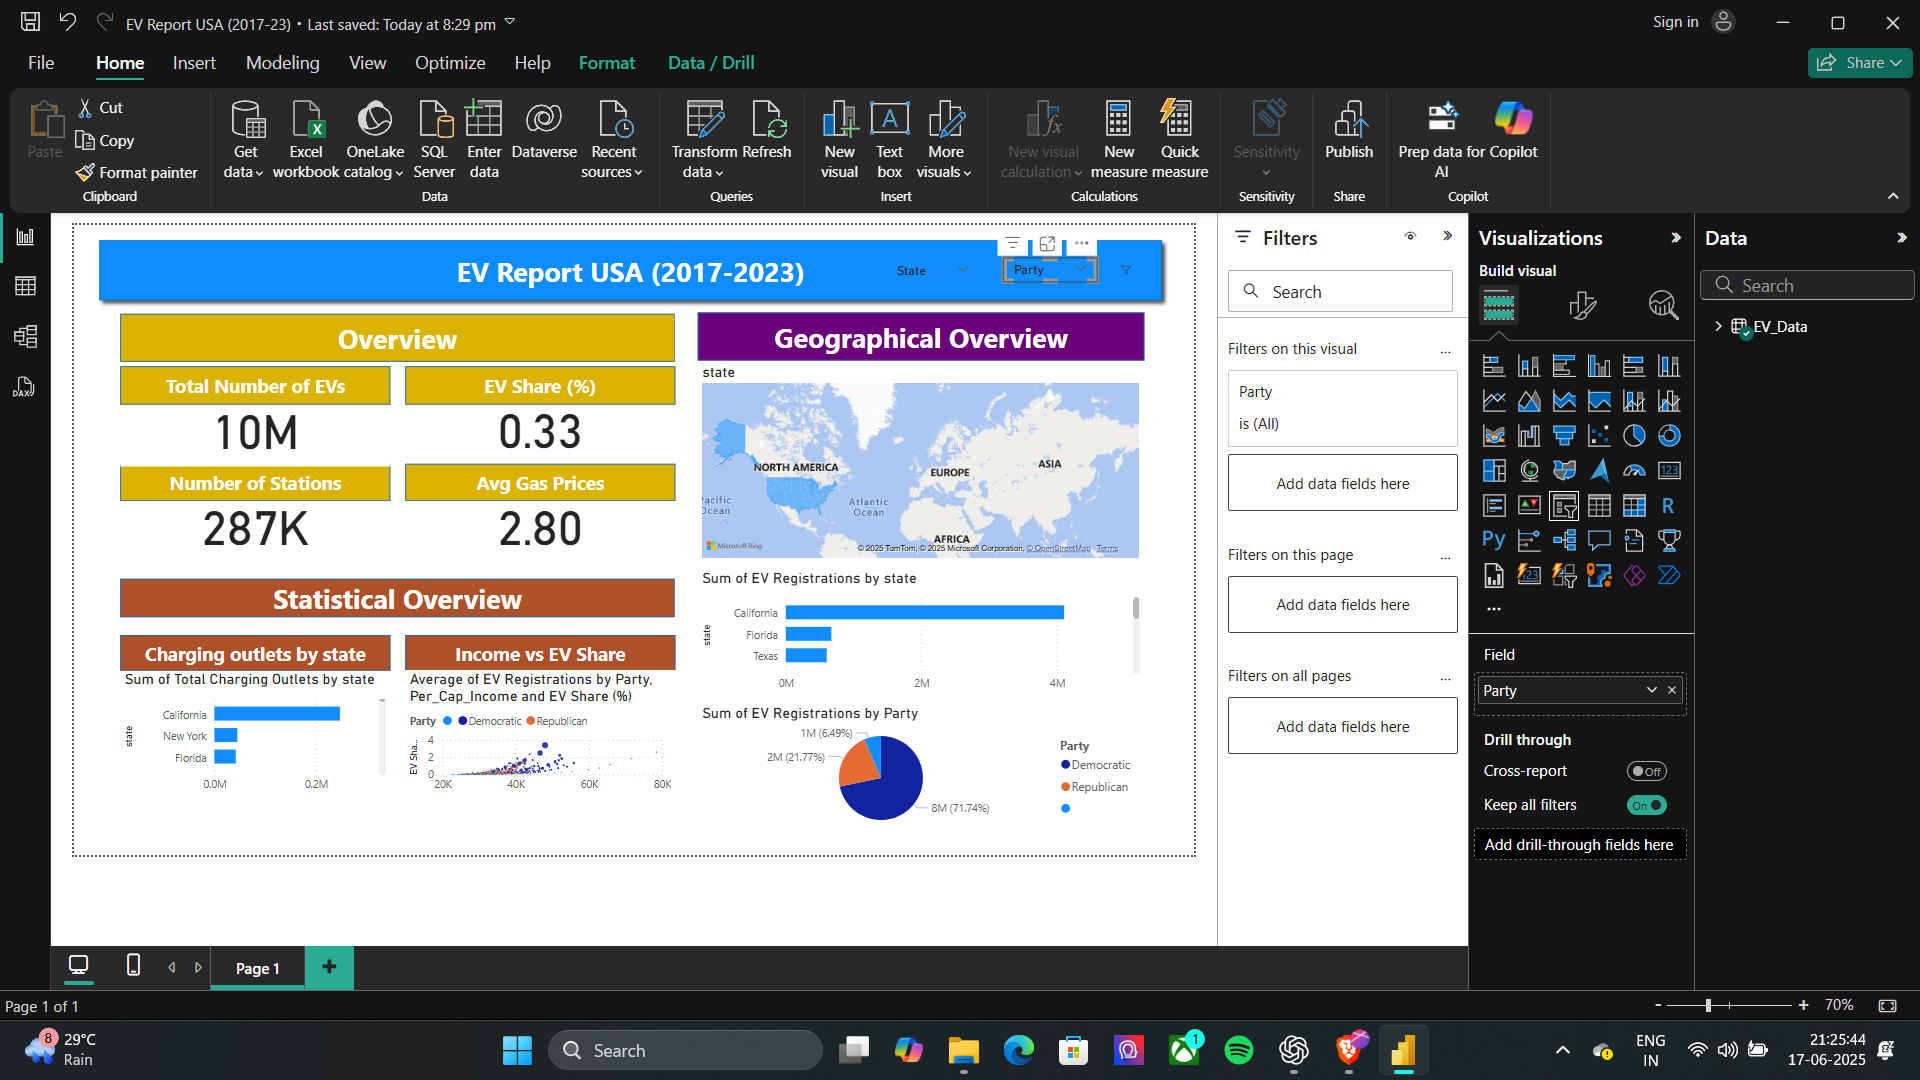

The dashboard page shown, as its layout file describes it:
{"tool":"powerbi","page":{"name":"Page 1","canvas":[1280,720],"ordinal":0},"visuals":[{"type":"shape","box":[20.6,8.2,1232.3,86.4],"z":0},{"type":"shape","box":[53.5,161.9,308.7,43.9],"z":1000},{"type":"shape","box":[378.7,161.9,308.7,43.9],"z":2000},{"type":"shape","box":[53.5,273.1,308.7,42.5],"z":3000},{"type":"shape","box":[378.7,273.1,308.7,42.5],"z":4000},{"type":"card","fields":{"Values":["Sum(EV_Data.Stations)"]},"box":[53.5,315.6,308.7,70],"z":5000},{"type":"card","fields":{"Values":["Avg(EV_Data.gasoline_price_per_gallon)"]},"box":[378.7,315.6,308.7,70],"z":6000},{"type":"card","fields":{"Values":["Sum(EV_Data.EV Registrations)"]},"box":[53.5,207.2,308.7,68.6],"z":7000},{"type":"card","fields":{"Values":["Avg(EV_Data.EV Share (%))"]},"box":[378.7,207.2,308.7,64.5],"z":8000},{"type":"shape","box":[53.5,101.5,634,54.9],"z":9000},{"type":"shape","box":[712.7,100.4,510.5,54.9],"z":10000},{"type":"filledMap","fields":{"Category":["EV_Data.state"]},"box":[712.2,157.8,510.5,229.2],"z":11000},{"type":"shape","box":[53.5,404.8,634,43.9],"z":12000},{"type":"barChart","fields":{"Category":["EV_Data.state"],"Y":["Sum(EV_Data.Total Charging Outlets)"]},"box":[53.5,509.1,308.7,149.6],"z":13000},{"type":"shape","box":[53.5,467.9,308.7,41.2],"z":14000},{"type":"shape","box":[378.7,467.9,308.7,41.2],"z":15000},{"type":"scatterChart","fields":{"X":["EV_Data.Per_Cap_Income"],"Y":["EV_Data.EV Share (%)"],"Size":["Avg(EV_Data.EV Registrations)"],"Series":["EV_Data.Party"]},"box":[378.7,509.1,308.7,149.6],"z":16000},{"type":"clusteredBarChart","fields":{"Category":["EV_Data.state"],"Y":["Sum(EV_Data.EV Registrations)"]},"box":[712.2,392.5,510.5,149.6],"z":17000},{"type":"pieChart","fields":{"Category":["EV_Data.Party"],"Y":["Sum(EV_Data.EV Registrations)"]},"box":[712.2,547.5,509.1,150.9],"z":18000},{"type":"slicer","fields":{"Values":["EV_Data.Per_Cap_Income"]},"box":[1184.2,38.4,37,26.1],"z":19000},{"type":"slicer","fields":{"Values":["EV_Data.Party"]},"box":[1062.1,37,108.4,28.8],"z":20000},{"type":"slicer","fields":{"Values":["EV_Data.state"]},"box":[927.6,38.4,108.4,27.4],"z":21000}]}

Visuals, with their boxes on the page's 1280x720 design canvas (x1, y1, x2, y2). These are canvas units, not pixel positions in the 1920x1080 screenshot, which may show the page scaled, cropped or inside an application window:
shape: bbox(21, 8, 1253, 95)
shape: bbox(54, 162, 362, 206)
shape: bbox(379, 162, 687, 206)
shape: bbox(54, 273, 362, 316)
shape: bbox(379, 273, 687, 316)
card - Sum(EV_Data.Stations): bbox(54, 316, 362, 386)
card - Avg(EV_Data.gasoline_price_per_gallon): bbox(379, 316, 687, 386)
card - Sum(EV_Data.EV Registrations): bbox(54, 207, 362, 276)
card - Avg(EV_Data.EV Share (%)): bbox(379, 207, 687, 272)
shape: bbox(54, 102, 688, 156)
shape: bbox(713, 100, 1223, 155)
filledMap - EV_Data.state: bbox(712, 158, 1223, 387)
shape: bbox(54, 405, 688, 449)
barChart - EV_Data.state x Sum(EV_Data.Total Charging Outlets): bbox(54, 509, 362, 659)
shape: bbox(54, 468, 362, 509)
shape: bbox(379, 468, 687, 509)
scatterChart - EV_Data.Per_Cap_Income x EV_Data.EV Share (%): bbox(379, 509, 687, 659)
clusteredBarChart - EV_Data.state x Sum(EV_Data.EV Registrations): bbox(712, 392, 1223, 542)
pieChart - EV_Data.Party x Sum(EV_Data.EV Registrations): bbox(712, 548, 1221, 698)
slicer - EV_Data.Per_Cap_Income: bbox(1184, 38, 1221, 64)
slicer - EV_Data.Party: bbox(1062, 37, 1170, 66)
slicer - EV_Data.state: bbox(928, 38, 1036, 66)
